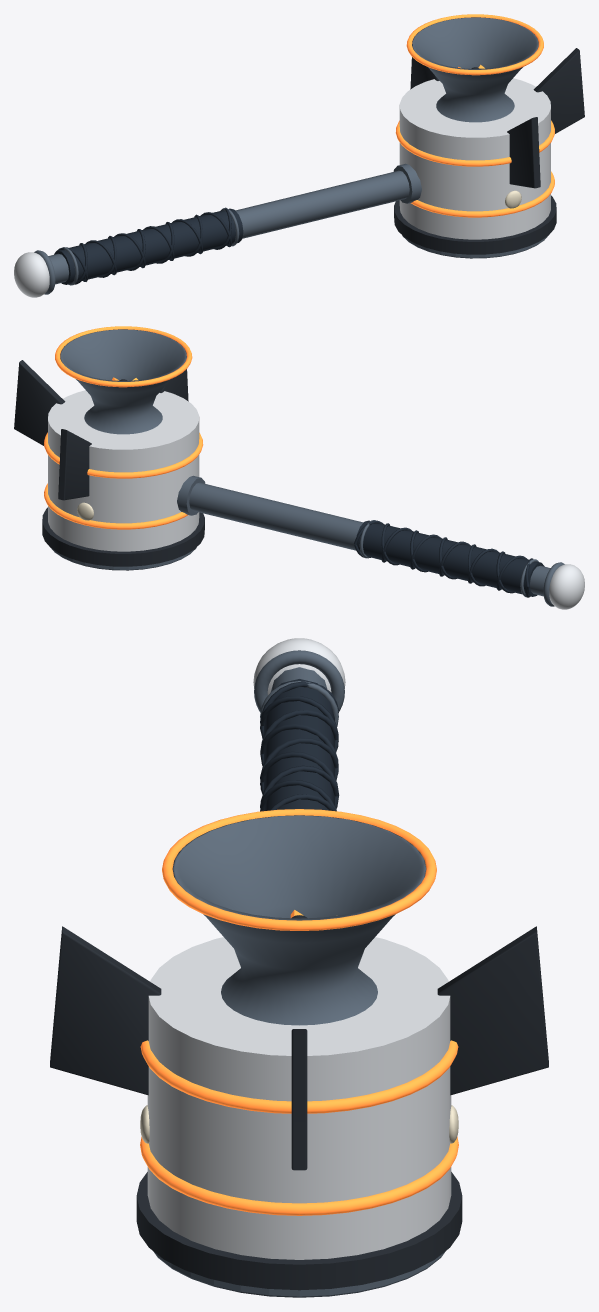
The model's file is comet-thruster.glb.
The picture shows the model from 3 angles, top to bottom: view 1: azimuth 30°, elevation 25°; view 2: azimuth 150°, elevation 25°; view 3: azimuth 270°, elevation 25°; orthographic projection. The views are drawn at different scales.
Visible parts, largest first — view 1: 08_Faultline_Hammer__body_Sculpt_coat, 08_Faultline_Hammer__body_Sculpt_metal, 08_Faultline_Hammer__body_Sculpt_frame, 08_Faultline_Hammer__body_Sculpt_grip, 08_Faultline_Hammer__body_Sculpt_glow; view 2: 08_Faultline_Hammer__body_Sculpt_coat, 08_Faultline_Hammer__body_Sculpt_metal, 08_Faultline_Hammer__body_Sculpt_frame, 08_Faultline_Hammer__body_Sculpt_grip, 08_Faultline_Hammer__body_Sculpt_glow; view 3: 08_Faultline_Hammer__body_Sculpt_coat, 08_Faultline_Hammer__body_Sculpt_metal, 08_Faultline_Hammer__body_Sculpt_frame, 08_Faultline_Hammer__body_Sculpt_glow, 08_Faultline_Hammer__body_Sculpt_grip.
Part boxes in pixels (box(x1,y1,x2,y2)): 08_Faultline_Hammer__body_Sculpt_coat: box(14, 78, 550, 297); 08_Faultline_Hammer__body_Sculpt_metal: box(34, 17, 547, 294); 08_Faultline_Hammer__body_Sculpt_frame: box(394, 48, 584, 254); 08_Faultline_Hammer__body_Sculpt_grip: box(54, 207, 243, 284); 08_Faultline_Hammer__body_Sculpt_glow: box(395, 14, 554, 217); 08_Faultline_Hammer__body_Sculpt_coat: box(48, 390, 584, 609); 08_Faultline_Hammer__body_Sculpt_metal: box(51, 329, 564, 606); 08_Faultline_Hammer__body_Sculpt_frame: box(14, 360, 204, 566); 08_Faultline_Hammer__body_Sculpt_grip: box(354, 520, 544, 597); 08_Faultline_Hammer__body_Sculpt_glow: box(44, 326, 203, 529); 08_Faultline_Hammer__body_Sculpt_coat: box(147, 638, 451, 1259); 08_Faultline_Hammer__body_Sculpt_metal: box(153, 650, 445, 1297); 08_Faultline_Hammer__body_Sculpt_frame: box(50, 926, 548, 1290); 08_Faultline_Hammer__body_Sculpt_glow: box(140, 809, 458, 1215); 08_Faultline_Hammer__body_Sculpt_grip: box(260, 679, 339, 811).
Size of the model in its own units: 2.33 by 0.724 by 0.8885.
